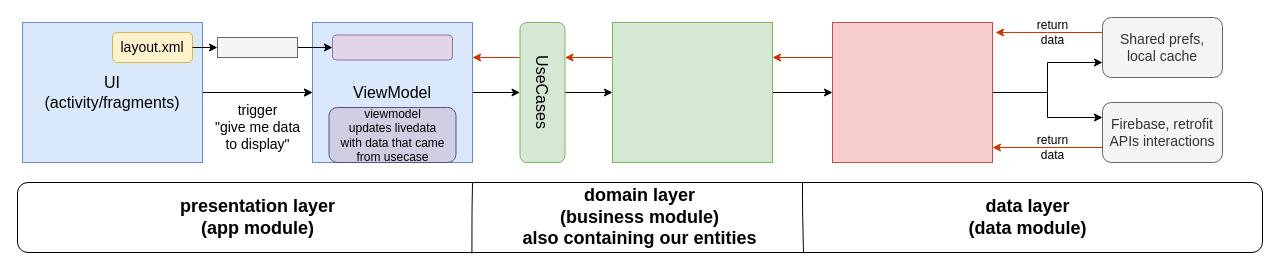
Some shapes in this 1280 by 272 pixel diagram are drawn without their labels. The centre of each missing label's shape, as x and y in pixels:
Databinding: point (257, 47)
MutableLiveData: point (392, 47)
Repository Implementation: point (912, 92)
Repository Interface: point (692, 92)
